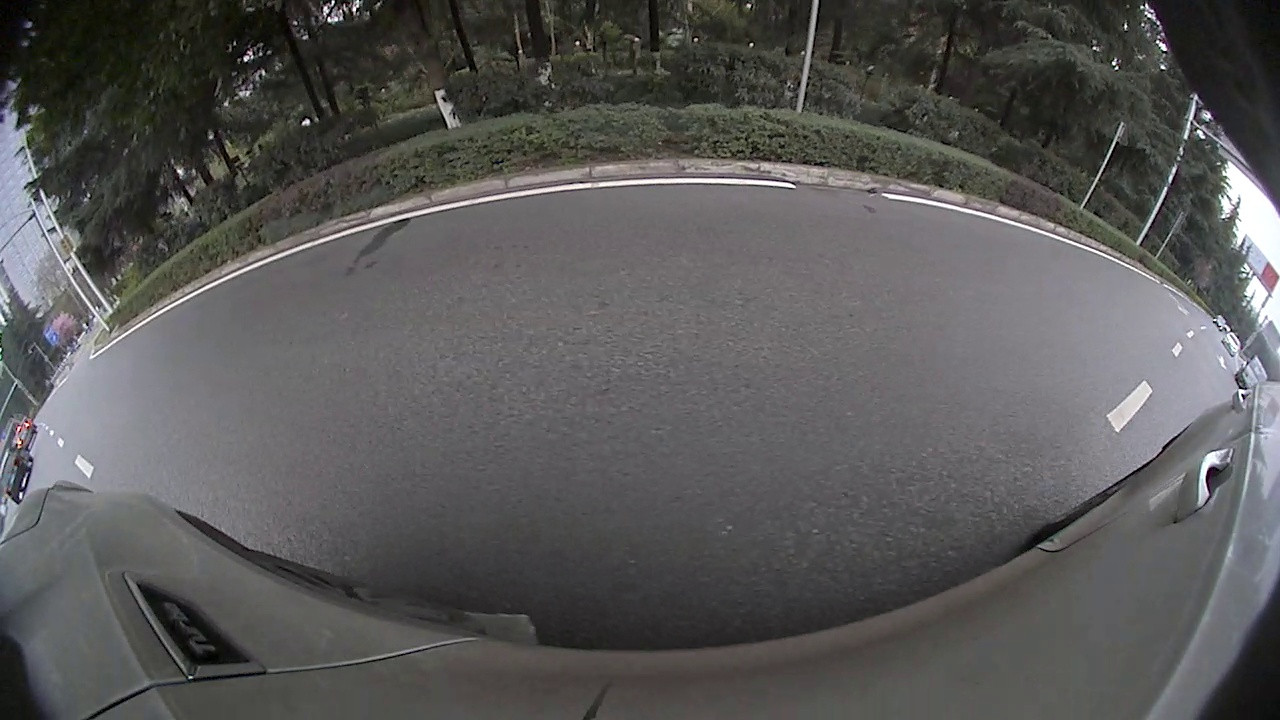car: (1, 446, 33, 506), (1235, 353, 1268, 394), (11, 417, 39, 446), (1221, 331, 1241, 359)
